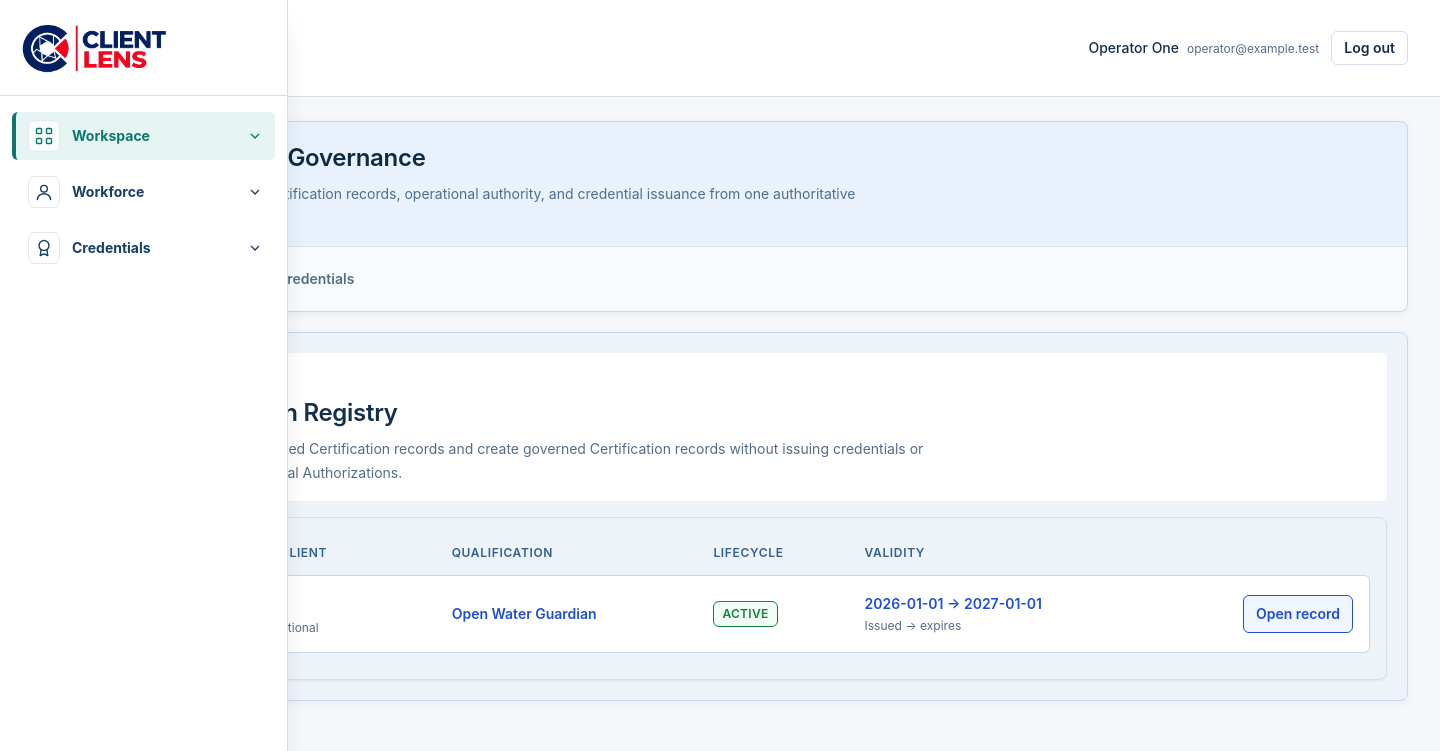
Certification workspace frontend › creates Operational Authorization with the exact backend contract and refetches authoritative projections
Click the button with aria-label "View Certificate Details" at (1298, 614), box [1243,595,1353,633]
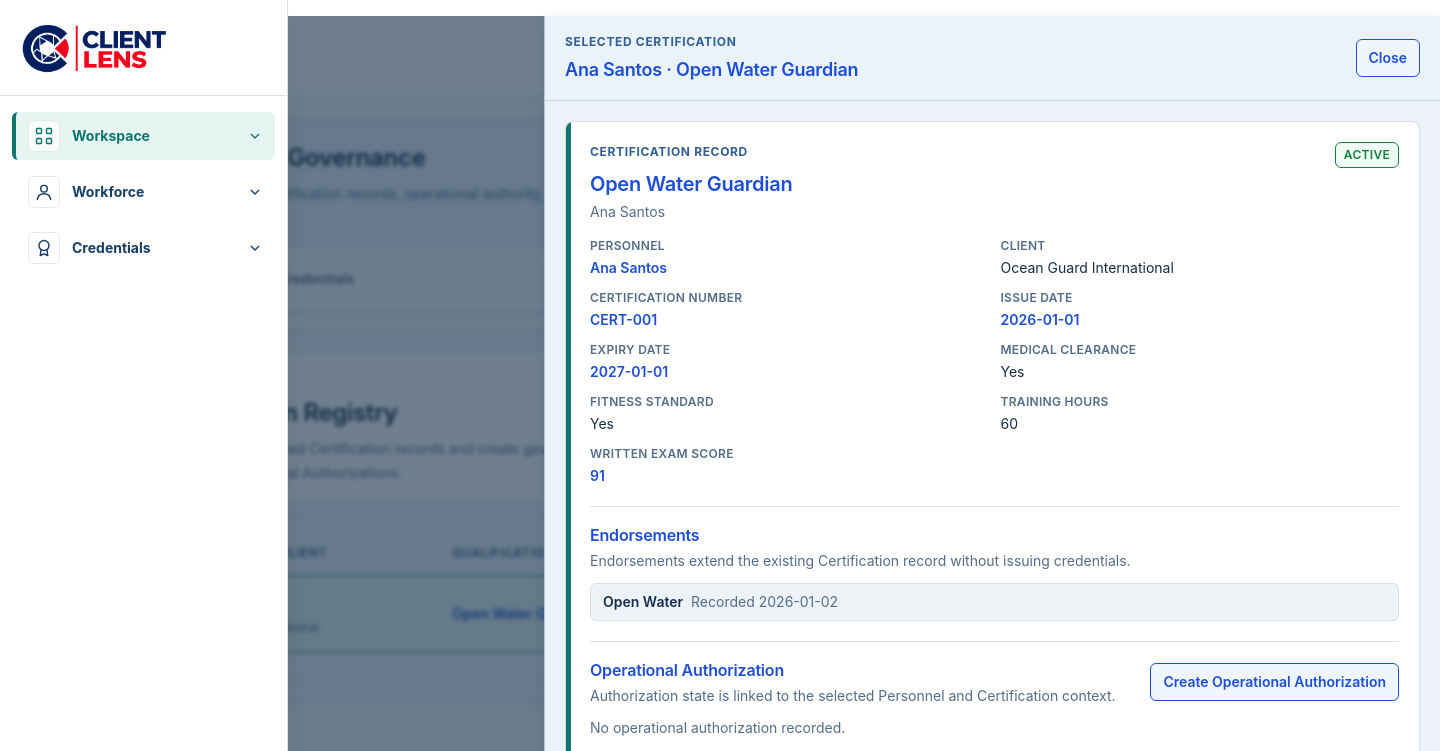
Click the button "Create Operational Authorization" at (1275, 682), box [1150,663,1399,701]
(page scrolled)
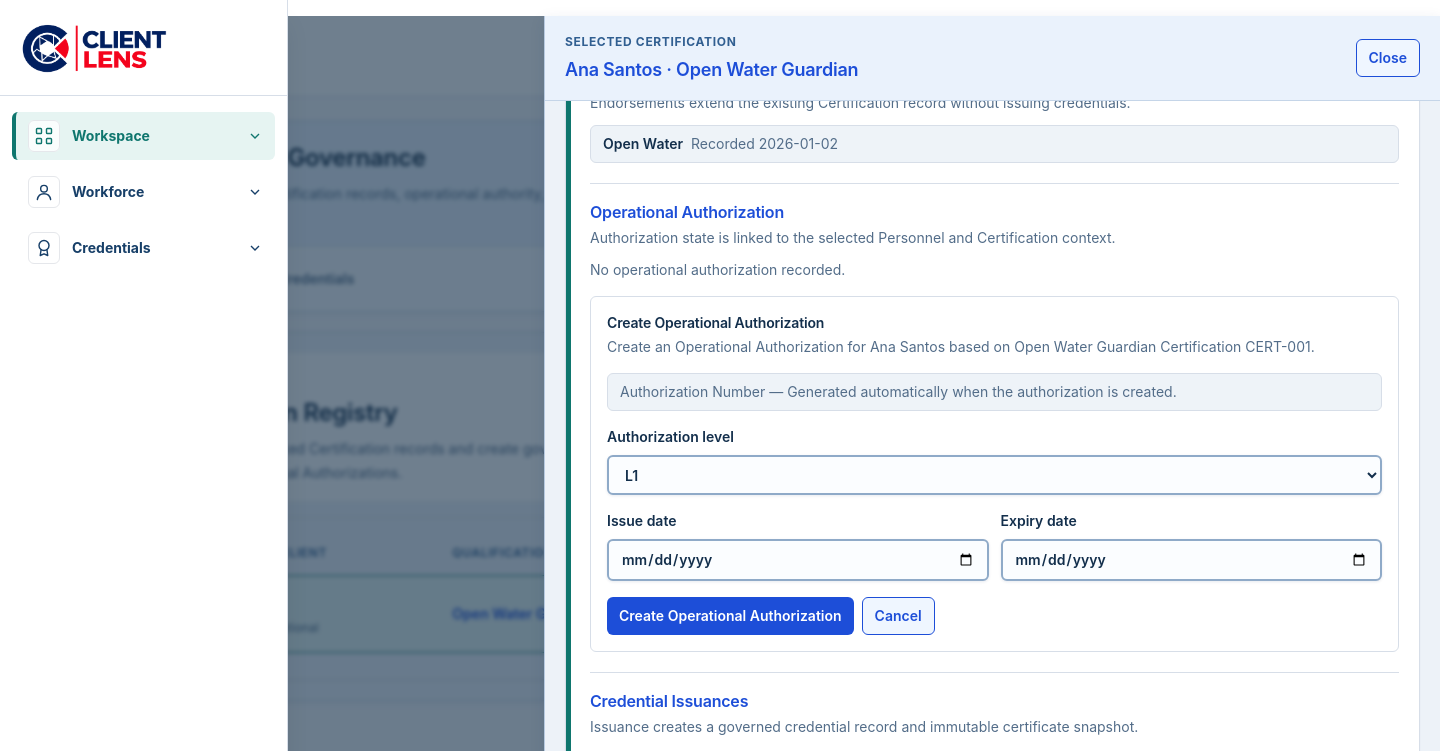
Check: the text "Create an Operational Authorization for Ana Santos based on Open Water Guardian Certification CERT-001." is shown, box [607,338,1315,355]
Check: the text "Authorization Number — Generated automatically when the authorization is created." is shown, box [620,383,1177,400]
Select "L3" in the dropdown labelled "Authorization level" at (994, 475), box [607,455,1382,495]
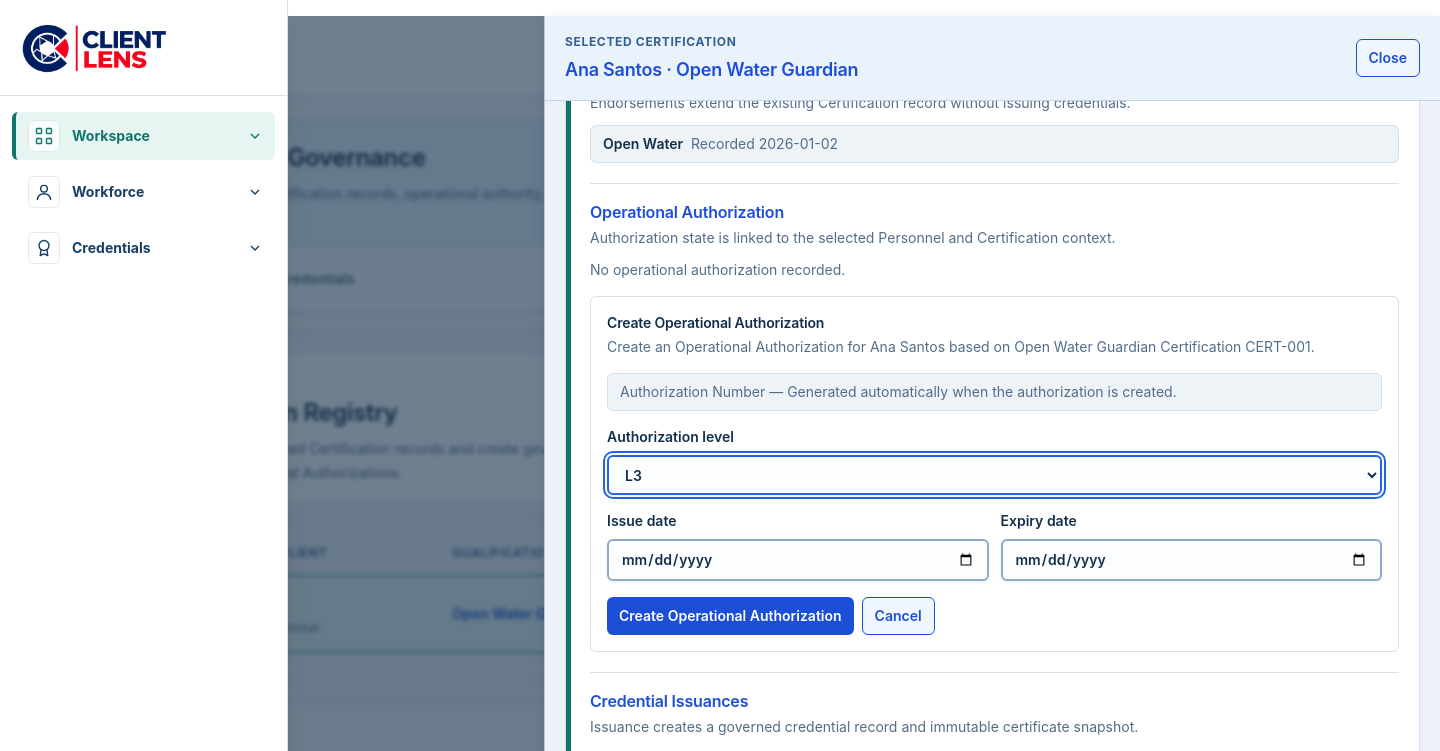
Type "2026-01-05" into the date field labelled "Issue date" at (798, 560), box [607,539,988,581]
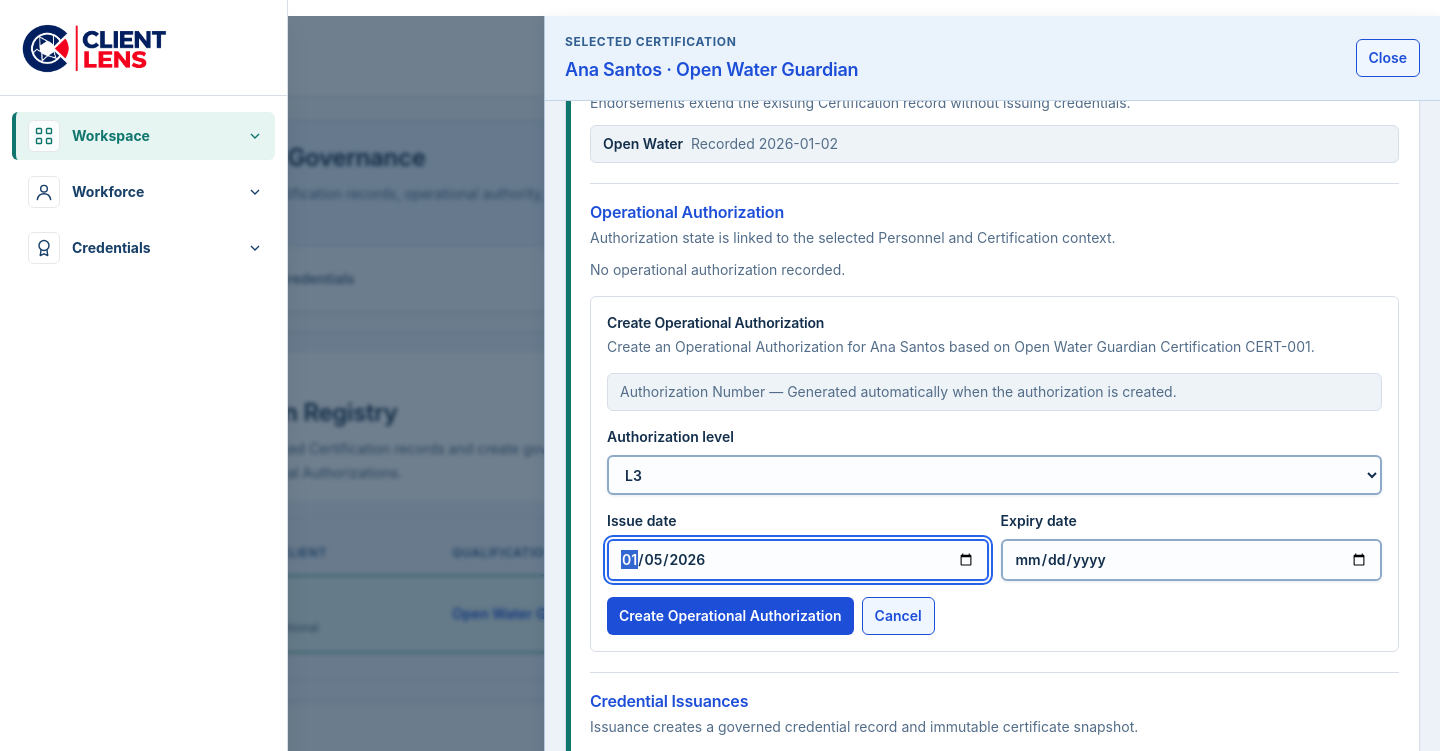
Type "2027-01-05" into the date field labelled "Expiry date" at (1191, 560), box [1000,539,1382,581]
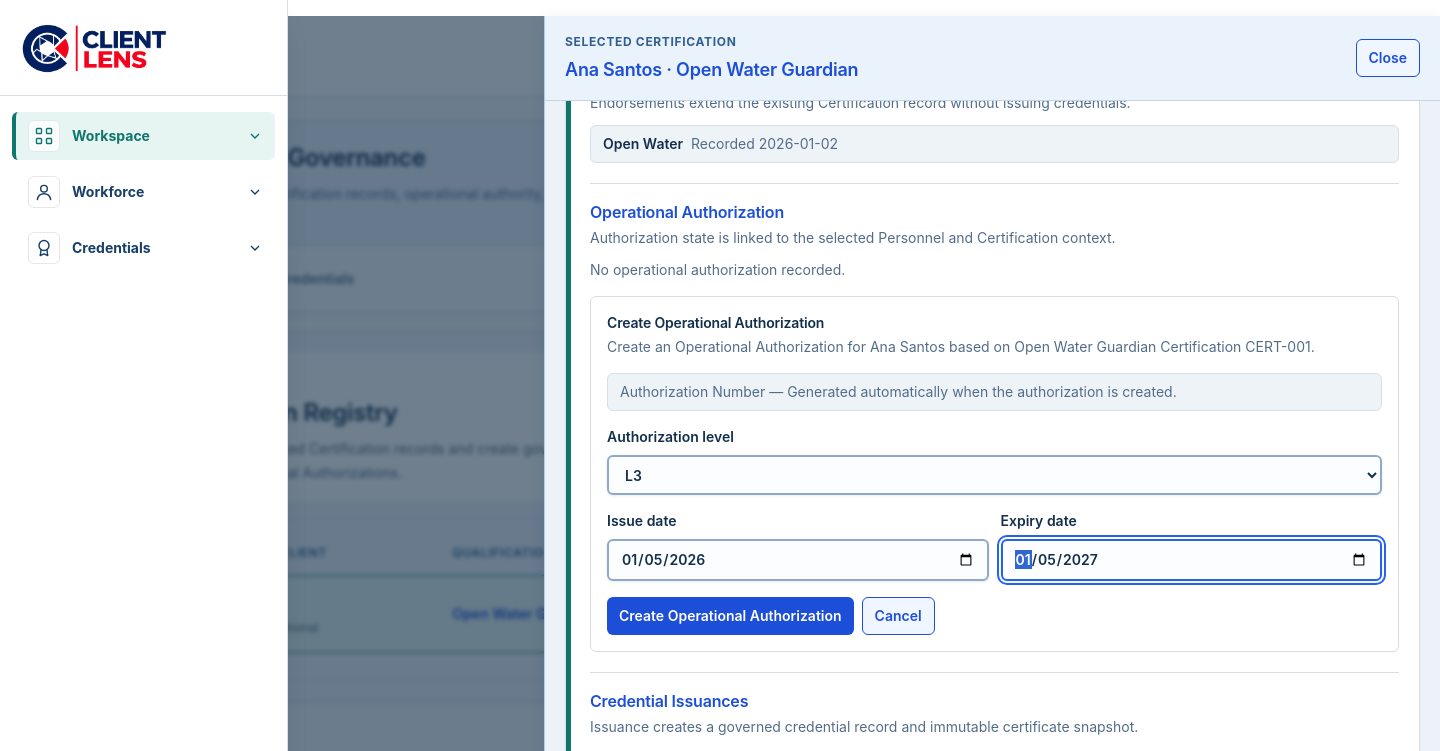
Click the button "Create Operational Authorization" at (730, 616), box [607,597,854,635]
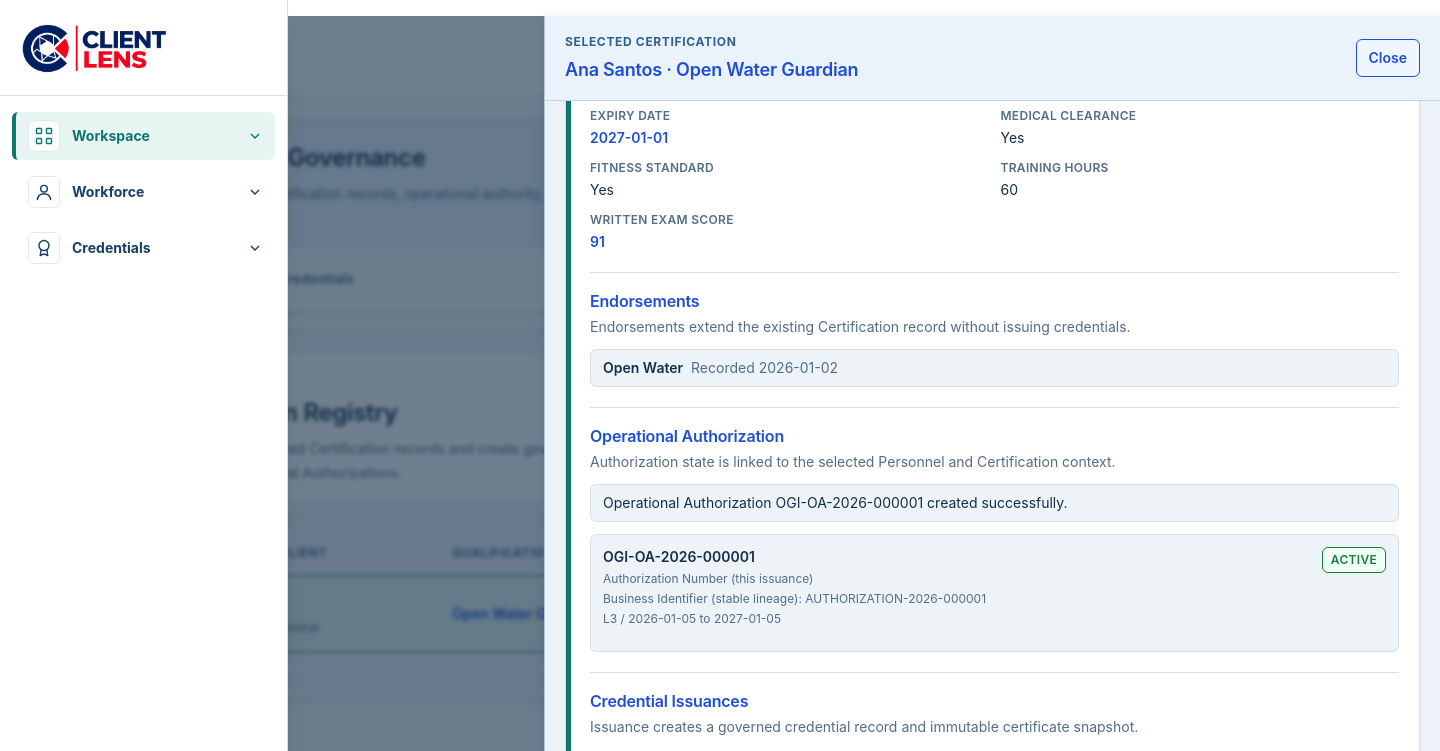
Check: the text "Operational Authorization OGI-OA-2026-000001 created successfully." is shown, box [590,484,1399,522]
Check: the text "OGI-OA-2026-000001" is shown, box [603,548,755,565]
Check: the text "Business Identifier (stable lineage): AUTHORIZATION-2026-000001" is shown, box [603,591,986,607]
